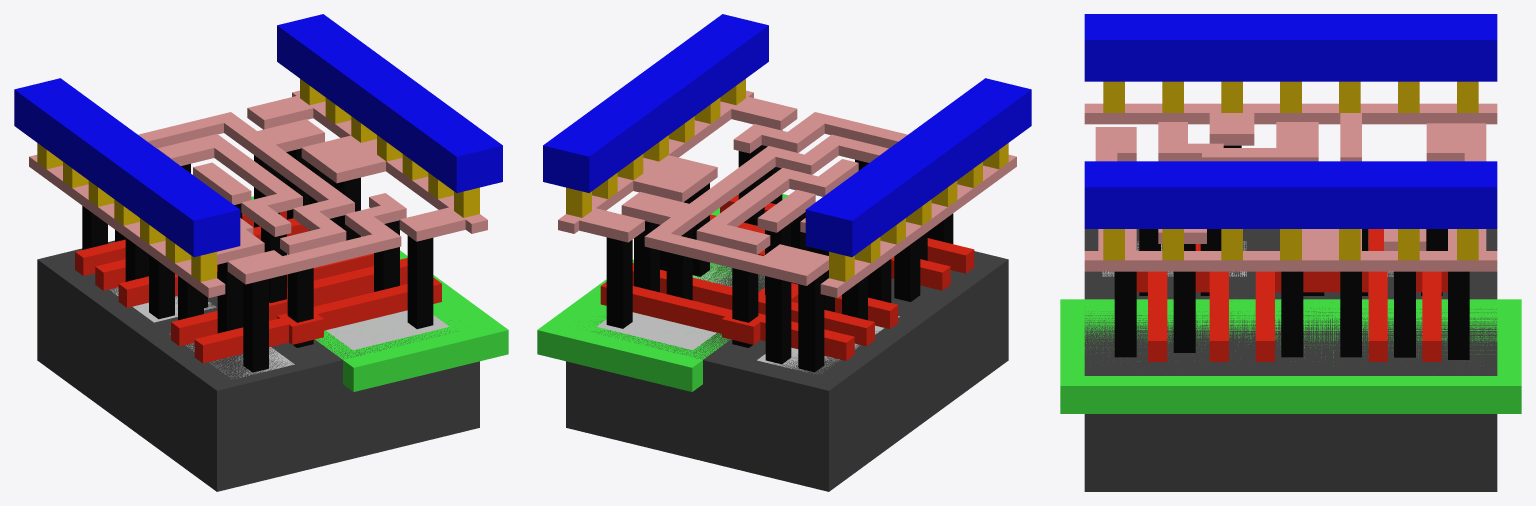
Rendered from sky130_fd_sc_hd__xnor2_1.obj.
3 renders of one model, left to right at view 1: azimuth 30°, elevation 25°; view 2: azimuth 150°, elevation 25°; view 3: azimuth 270°, elevation 25°, orthographic. The views are drawn at different scales.
Parts seen in each view (by area): view 1: subs, metal1, li, licon, poly, nwell, mcon, tap, diff; view 2: subs, metal1, li, licon, poly, nwell, mcon, tap; view 3: metal1, subs, nwell, li, licon, poly, mcon.
Boxes of the visible parts, <box> form: subs: <box>37,240,479,491</box>; metal1: <box>14,14,502,257</box>; li: <box>29,90,487,297</box>; licon: <box>82,148,433,372</box>; poly: <box>75,211,441,363</box>; nwell: <box>251,196,508,391</box>; mcon: <box>37,79,479,281</box>; tap: <box>287,254,449,350</box>; diff: <box>109,287,294,378</box>; subs: <box>566,251,1008,491</box>; metal1: <box>543,14,1031,257</box>; li: <box>558,90,1016,297</box>; licon: <box>606,130,953,372</box>; poly: <box>600,195,974,360</box>; nwell: <box>537,194,787,391</box>; mcon: <box>566,79,1008,281</box>; tap: <box>596,263,764,350</box>; metal1: <box>1084,14,1497,228</box>; subs: <box>1084,229,1497,491</box>; nwell: <box>1060,299,1521,413</box>; li: <box>1084,103,1497,271</box>; licon: <box>1114,145,1469,359</box>; poly: <box>1136,229,1447,361</box>; mcon: <box>1103,81,1478,260</box>.
Bounding box in the file's own units: 3.2 × 2.74 × 3.6.
